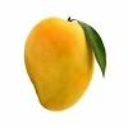mango: (23, 17, 106, 111)
